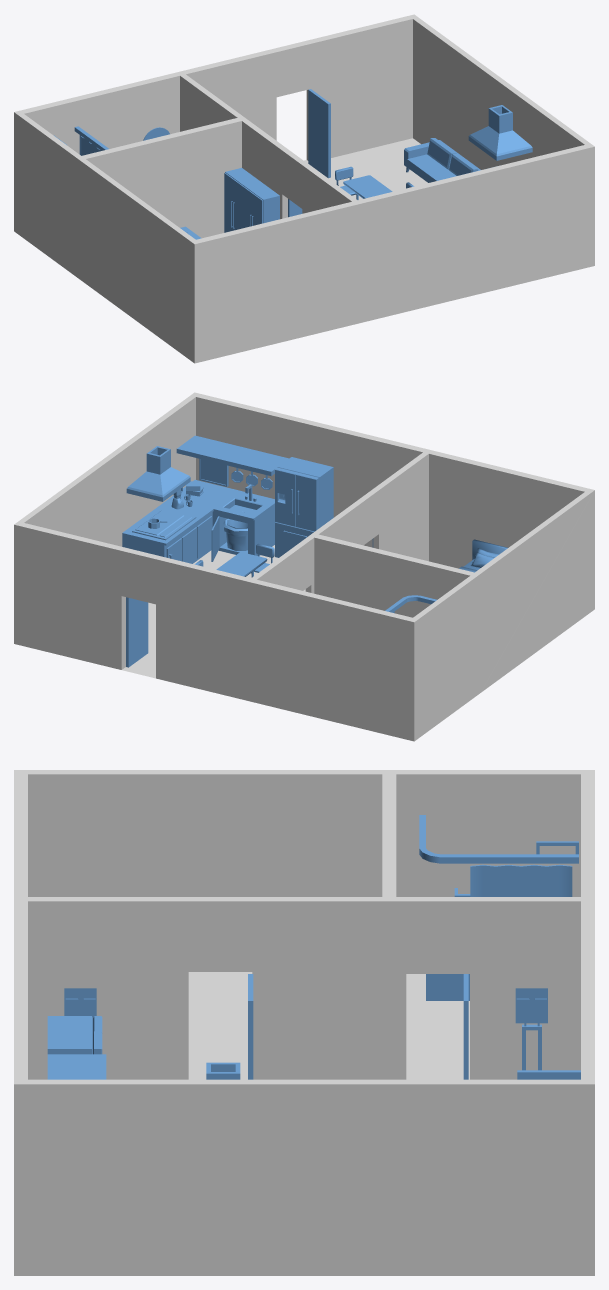
The model's file is room2.glb.
The picture shows the model from 3 angles, top to bottom: view 1: azimuth 30°, elevation 25°; view 2: azimuth 150°, elevation 25°; view 3: azimuth 270°, elevation 25°; orthographic projection. The views are drawn at different scales.
Visible parts, largest first — view 1: ROOM FINISHED 2; view 2: ROOM FINISHED 2; view 3: ROOM FINISHED 2.
Boxes of the visible parts, left/top/right/bottom form: ROOM FINISHED 2: left=14, top=14, right=594, bottom=363; ROOM FINISHED 2: left=14, top=392, right=594, bottom=741; ROOM FINISHED 2: left=14, top=770, right=594, bottom=1275.
Size of the model in its own units: 8.77 by 2.52 by 6.86.
